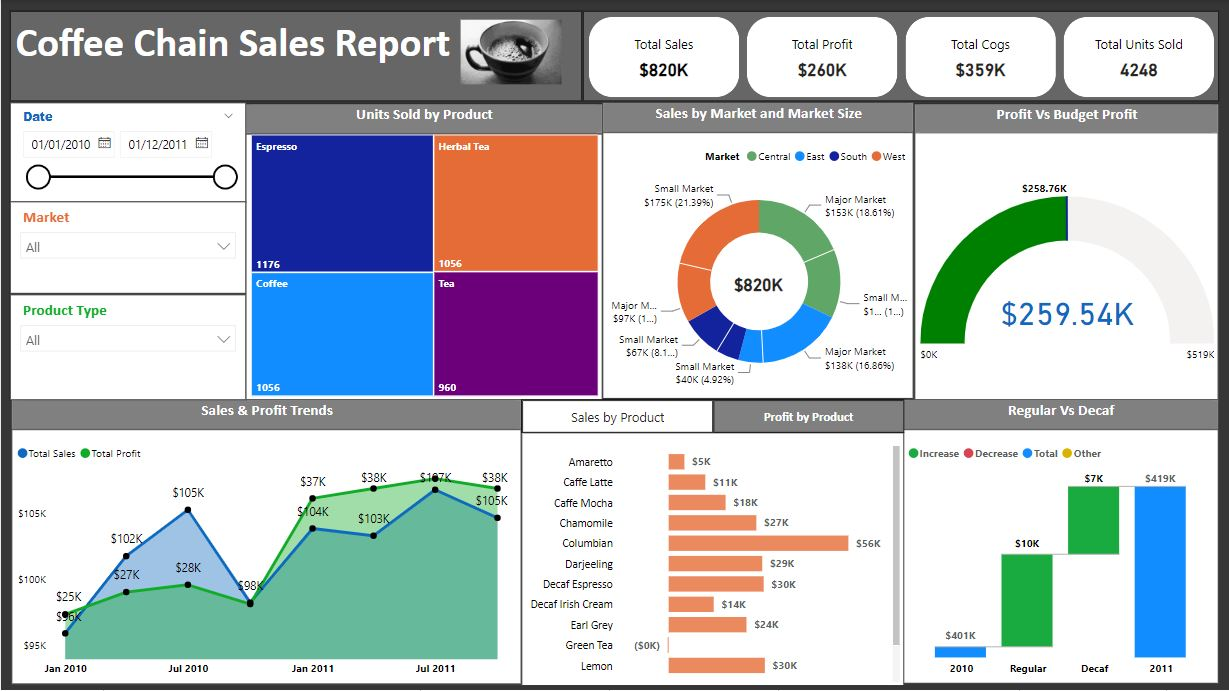

The page's visual inventory and layout, read from the dashboard file:
{"tool":"powerbi","page":{"name":"Dashboard","canvas":[1280,720],"ordinal":0},"visuals":[{"type":"donutChart","title":"Sales by Market and Market Size","fields":{"Category":["factTable+ (Sample - Coffee Cha.Market"],"Series":["factTable+ (Sample - Coffee Cha.Market Size"],"Y":["Sum(factTable+ (Sample - Coffee Cha.Sales)"]},"box":[627.1,108.6,324.3,308.6],"z":0},{"type":"card","fields":{"Values":["Sum(factTable+ (Sample - Coffee Cha.Sales)"]},"box":[757.9,263.7,61.6,67.9],"z":1000},{"type":"treemap","title":"Units Sold by Product","fields":{"Values":["CountNonNull(factTable+ (Sample - Coffee Cha.Product Id)"],"Details":["factTable+ (Sample - Coffee Cha.Product Type"]},"box":[255.2,108.7,371.7,308.7],"z":2000},{"type":"areaChart","title":"Sales & Profit Trends","fields":{"Category":["factTable+ (Sample - Coffee Cha.Date.Variation.Date Hierarchy.Year","factTable+ (Sample - Coffee Cha.Date.Variation.Date Hierarchy.Quarter","factTable+ (Sample - Coffee Cha.Date.Variation.Date Hierarchy.Month","factTable+ (Sample - Coffee Cha.Date.Variation.Date Hierarchy.Day"],"Y":["Sum(factTable+ (Sample - Coffee Cha.Sales)"],"Y2":["Sum(factTable+ (Sample - Coffee Cha.Profit)"]},"box":[10.9,417.3,531.4,297],"z":3000},{"type":"gauge","title":"Profit Vs Budget Profit","fields":{"Y":["Sum(factTable+ (Sample - Coffee Cha.Profit)"],"TargetValue":["Sum(factTable+ (Sample - Coffee Cha.Budget Profit)"]},"box":[951.3,108.7,316.6,308.7],"z":4000},{"type":"waterfallChart","title":"Regular Vs Decaf","fields":{"Category":["factTable+ (Sample - Coffee Cha.Date.Variation.Date Hierarchy.Year","factTable+ (Sample - Coffee Cha.Product Type"],"Y":["Sum(factTable+ (Sample - Coffee Cha.Sales)"],"Breakdown":["factTable+ (Sample - Coffee Cha.Type"]},"box":[938.7,417.4,329.2,296.1],"z":5000},{"type":"textbox","box":[10,12.9,595.7,94.3],"z":6000},{"type":"cardVisual","fields":{"Data":["Sum(factTable+ (Sample - Coffee Cha.Sales)","Sum(factTable+ (Sample - Coffee Cha.Profit)","Sum(factTable+ (Sample - Coffee Cha.Cogs)","CountNonNull(factTable+ (Sample - Coffee Cha.Product Id)"]},"box":[605.7,12.9,662.9,94.3],"z":7000},{"type":"image","box":[474.3,1.4,115.7,107.1],"z":8000},{"type":"slicer","fields":{"Values":["factTable+ (Sample - Coffee Cha.Date"]},"box":[9.5,107.1,245.7,104],"z":9000},{"type":"slicer","fields":{"Values":["factTable+ (Sample - Coffee Cha.Market"]},"box":[9.5,211.1,245.7,96.1],"z":10000},{"type":"slicer","fields":{"Values":["factTable+ (Sample - Coffee Cha.Product Type"]},"box":[9.5,307.1,245.7,110.3],"z":11000},{"type":"barChart","fields":{"Category":["factTable+ (Sample - Coffee Cha.Product"],"Y":["Sum(factTable+ (Sample - Coffee Cha.Profit)"]},"box":[542.4,451.7,398.6,264.1],"z":13000},{"type":"bookmarkNavigator","box":[542.4,417.3,398.6,34.4],"z":14000}]}

Visuals, with their boxes in screenshot pixels (x1, y1, x2, y2), scaled from the page's 1280x720 canvas onto the 1229x691 screenshot:
"Sales by Market and Market Size" donutChart: box=[602, 104, 913, 400]
card - Sum(factTable+ (Sample - Coffee Cha.Sales): box=[728, 253, 787, 318]
"Units Sold by Product" treemap: box=[245, 104, 602, 401]
"Sales & Profit Trends" areaChart: box=[10, 400, 521, 686]
"Profit Vs Budget Profit" gauge: box=[913, 104, 1217, 401]
"Regular Vs Decaf" waterfallChart: box=[901, 401, 1217, 685]
textbox: box=[10, 12, 582, 103]
cardVisual - Sum(factTable+ (Sample - Coffee Cha.Sales) x Sum(factTable+ (Sample - Coffee Cha.Profit): box=[582, 12, 1218, 103]
image: box=[455, 1, 566, 104]
slicer - factTable+ (Sample - Coffee Cha.Date: box=[9, 103, 245, 203]
slicer - factTable+ (Sample - Coffee Cha.Market: box=[9, 203, 245, 295]
slicer - factTable+ (Sample - Coffee Cha.Product Type: box=[9, 295, 245, 401]
barChart - factTable+ (Sample - Coffee Cha.Product x Sum(factTable+ (Sample - Coffee Cha.Profit): box=[521, 434, 904, 687]
bookmarkNavigator: box=[521, 400, 904, 434]
